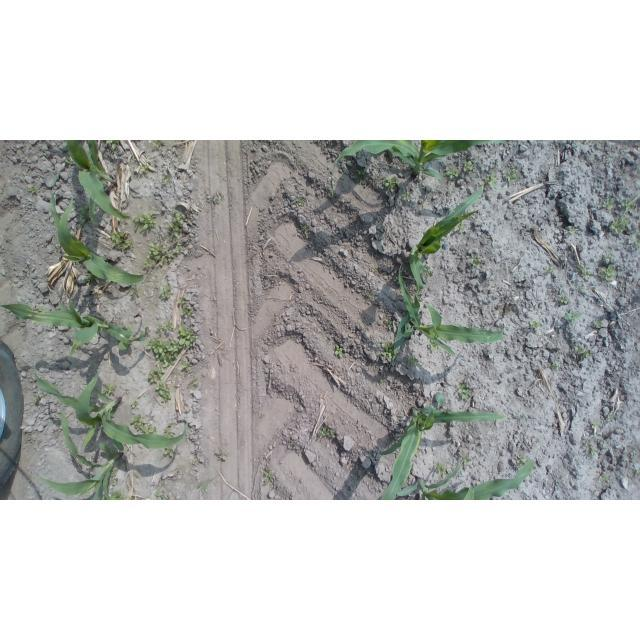Maize: (28, 366, 189, 457), (401, 181, 491, 332), (380, 398, 512, 500), (49, 172, 146, 292), (385, 262, 505, 358), (326, 141, 499, 198), (0, 296, 138, 366), (38, 406, 131, 500), (383, 452, 540, 500), (62, 140, 138, 224)
Weeds: (142, 241, 182, 271), (145, 337, 180, 366), (166, 208, 190, 243), (115, 326, 145, 350), (130, 211, 161, 233), (128, 414, 157, 435), (109, 230, 136, 252), (581, 434, 601, 460), (607, 217, 632, 236), (479, 170, 498, 193), (178, 326, 197, 349), (143, 364, 165, 383), (465, 253, 487, 270), (428, 333, 445, 354), (155, 384, 173, 403), (598, 266, 618, 283), (176, 296, 192, 317), (563, 311, 585, 326), (382, 340, 399, 359), (206, 189, 226, 205), (261, 464, 275, 486), (354, 168, 371, 186), (456, 384, 472, 403), (153, 488, 176, 500), (158, 284, 174, 301), (78, 207, 92, 226), (156, 321, 175, 335), (432, 463, 447, 480), (577, 265, 592, 282), (505, 167, 520, 184), (574, 344, 591, 358), (161, 423, 175, 440), (385, 174, 398, 192), (513, 455, 528, 470), (318, 427, 334, 441), (102, 383, 119, 396), (198, 477, 212, 492), (619, 198, 634, 212), (215, 450, 231, 463), (129, 283, 141, 300), (557, 291, 571, 305), (362, 287, 377, 300), (445, 167, 460, 180), (138, 164, 153, 177), (462, 160, 475, 174), (180, 362, 194, 375), (110, 467, 119, 487), (588, 421, 601, 434), (454, 221, 467, 234), (601, 252, 614, 265), (108, 491, 126, 500), (404, 352, 416, 365), (549, 359, 561, 372), (593, 316, 604, 330), (301, 225, 312, 239), (106, 141, 120, 152), (161, 448, 175, 459), (334, 344, 345, 358), (529, 320, 544, 330), (400, 190, 412, 202), (631, 232, 640, 248), (295, 196, 306, 209), (162, 172, 173, 184), (602, 200, 614, 211), (422, 267, 435, 277), (129, 399, 140, 409), (32, 395, 42, 406), (545, 265, 556, 274), (599, 473, 610, 482), (28, 186, 37, 197), (463, 457, 473, 466), (386, 316, 392, 328), (568, 226, 577, 234), (605, 413, 612, 419), (635, 468, 640, 476)
